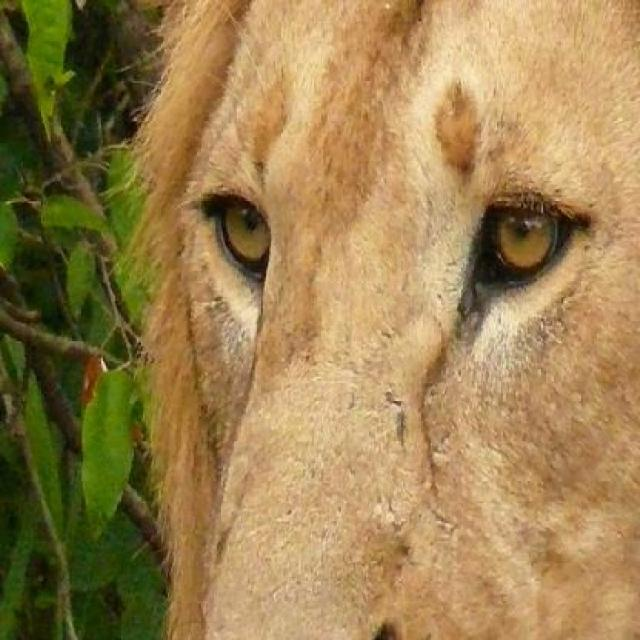Lion: (85, 12, 637, 638)
